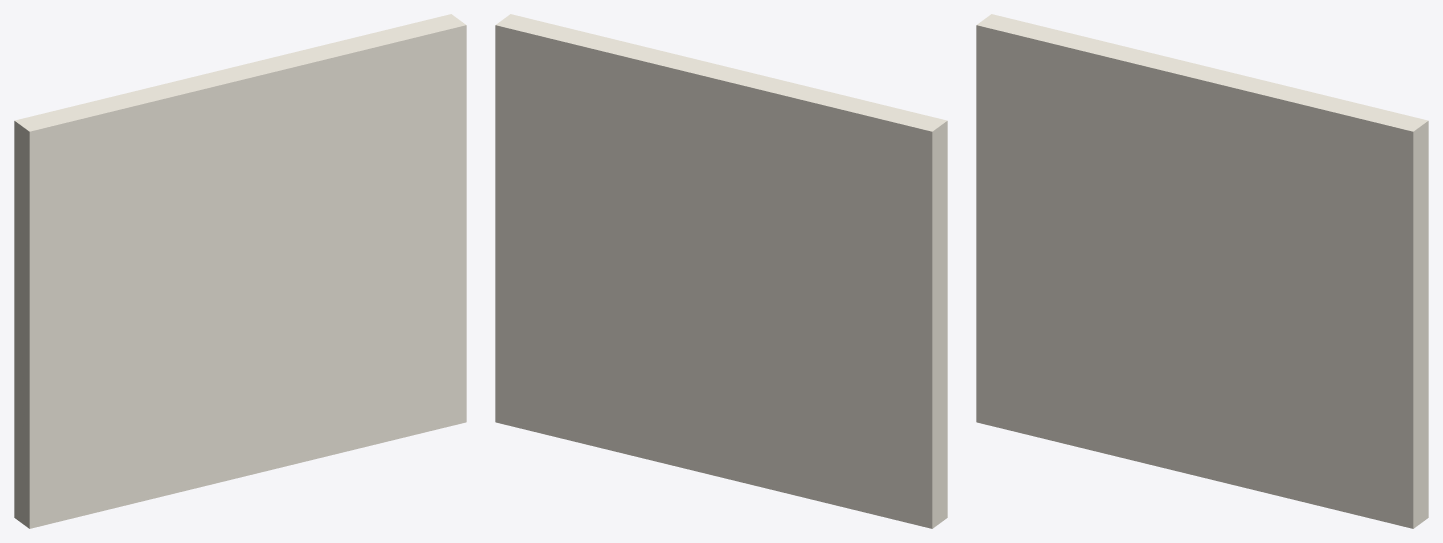
The model's file is FrontCubicleWall.fbx.
3 views of the same model, side by side, from view 1: azimuth 30°, elevation 25°; view 2: azimuth 150°, elevation 25°; view 3: azimuth 330°, elevation 25° (orthographic).
Parts seen in each view (by area): view 1: Cube; view 2: Cube; view 3: Cube.
Boxes of the visible parts, left/top/right/bottom form: Cube: left=14, top=14, right=466, bottom=528; Cube: left=495, top=14, right=947, bottom=528; Cube: left=976, top=14, right=1428, bottom=528.
Size of the model in its own units: 904 by 785 by 54.57.
